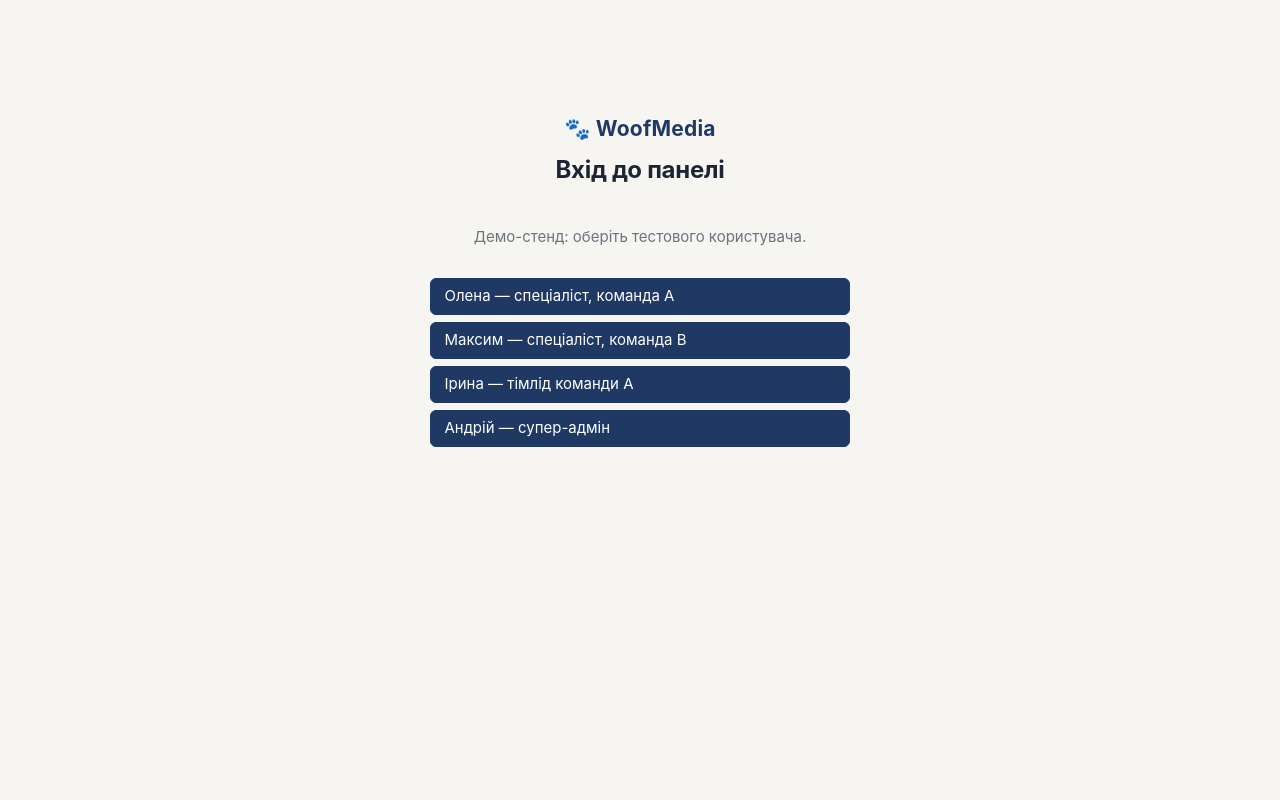
Вхід і меню за можливостями › супер-адмін бачить усі розділи
The width and height of the screenshot is (1280, 800).
Click the button "Андрій — супер-адмін". click: (527, 428)
box: [430,410,850,447]
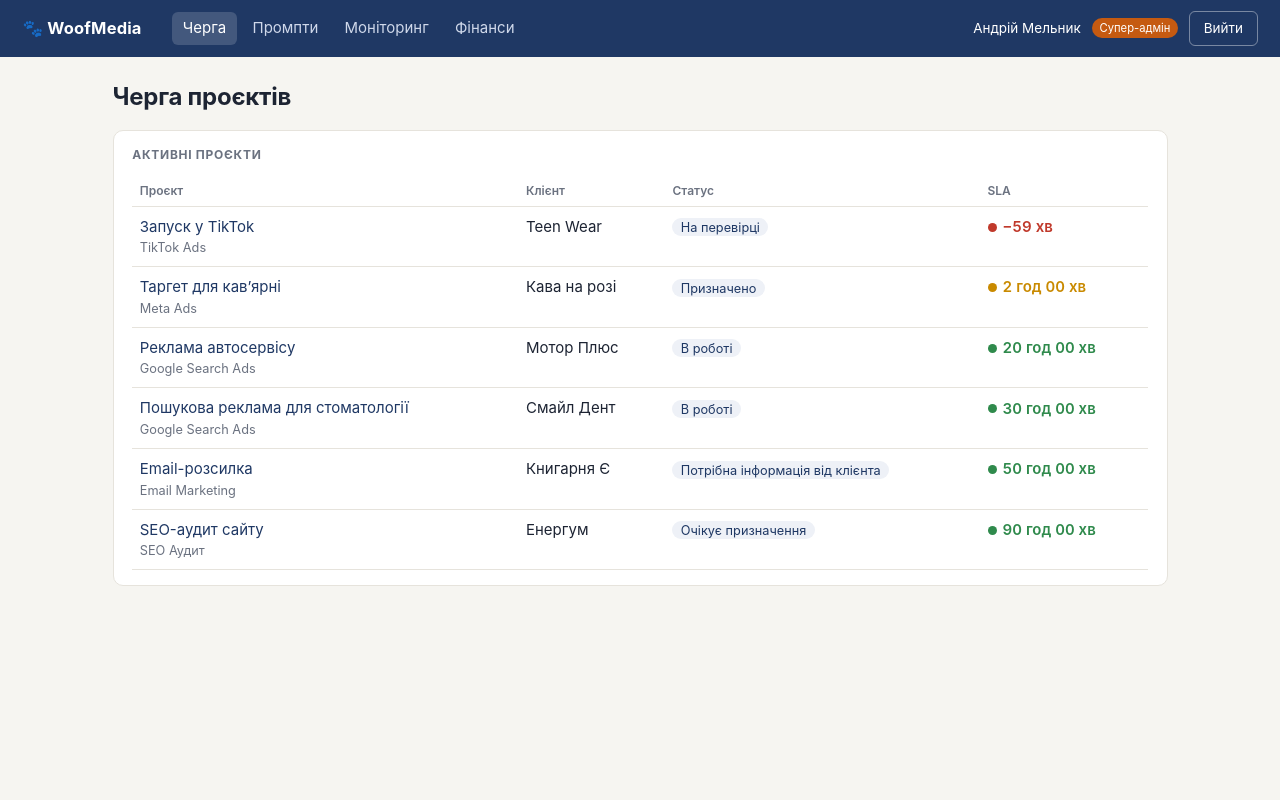
Result: the links read "Черга", "Промпти", "Моніторинг", "Фінанси", in this order at [172,12,238,45]; [252,18,318,37]; [344,18,429,37]; [455,18,514,37]
